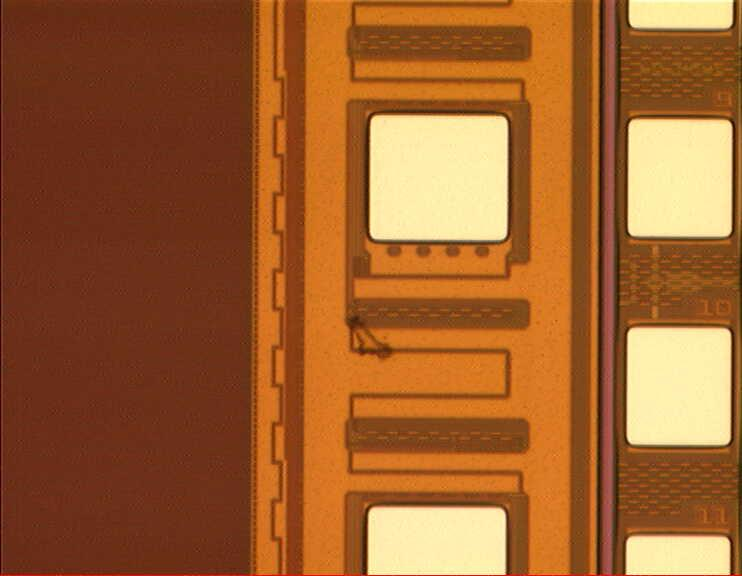PIQ PARTICLE: (338, 305, 397, 362)
